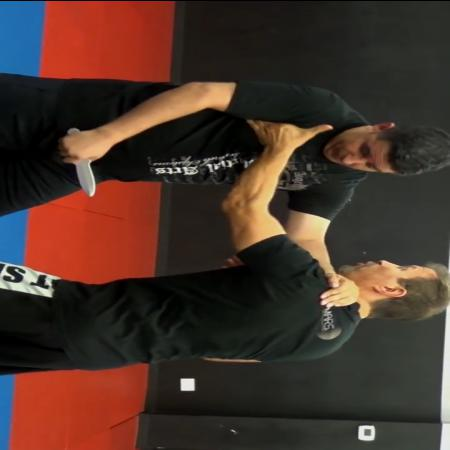long weapon: (57, 126, 105, 200)
